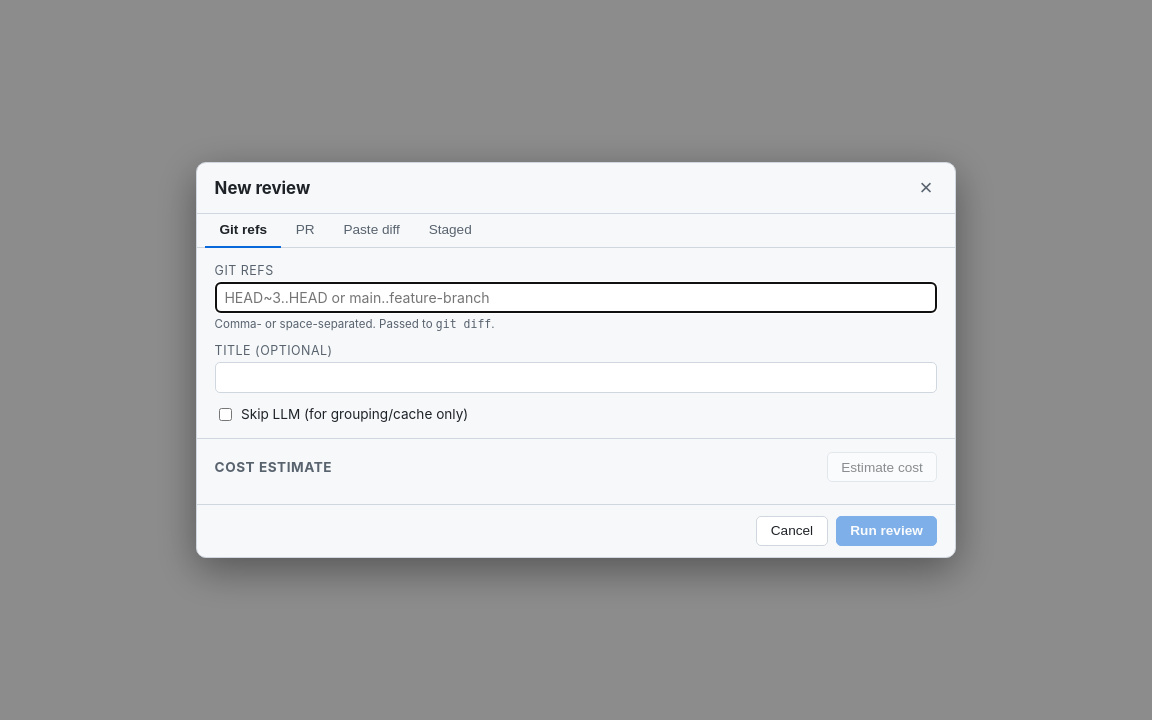
Test: NewReviewDialog › Staged tab is always valid
Click the tab "Staged" at (450, 231), box [414,214,486,248]
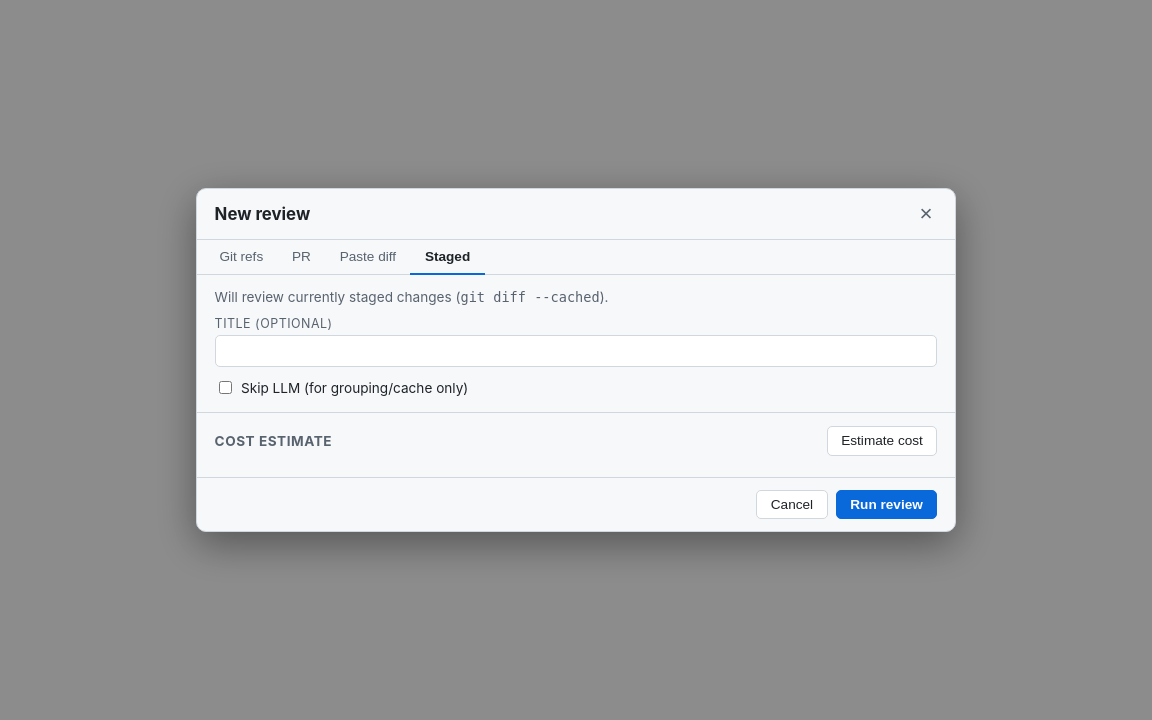
Now the button "Run review" is enabled, box [836,490,937,520]
